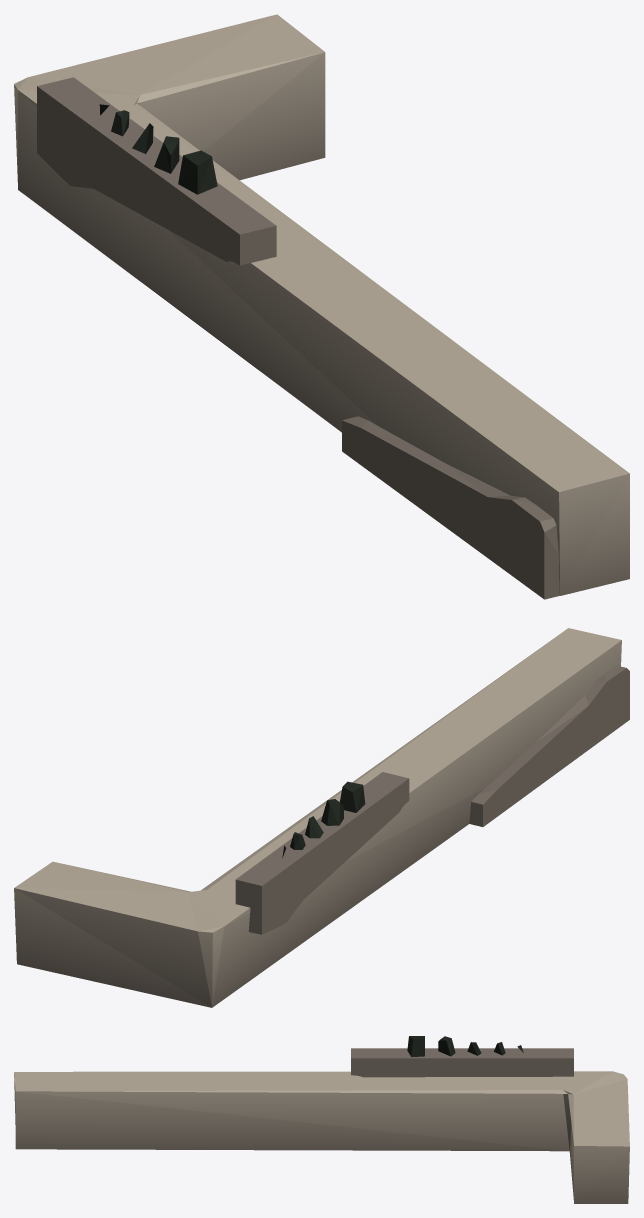
The model's file is concierge-desk.lod2.glb.
3 views of the same model, one above another, from view 1: azimuth 30°, elevation 25°; view 2: azimuth 150°, elevation 25°; view 3: azimuth 270°, elevation 25° (orthographic). The views are drawn at different scales.
Parts seen in each view (by area): view 1: defaultMaterial; view 2: defaultMaterial; view 3: defaultMaterial.
Part boxes in pixels (x1,y1,x2,y2): defaultMaterial: (14,14,629,599); defaultMaterial: (14,628,629,1007); defaultMaterial: (14,1036,629,1203).
Size of the model in its own units: 0.8993 by 0.5078 by 3.
